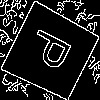P: (25, 26, 82, 77)
